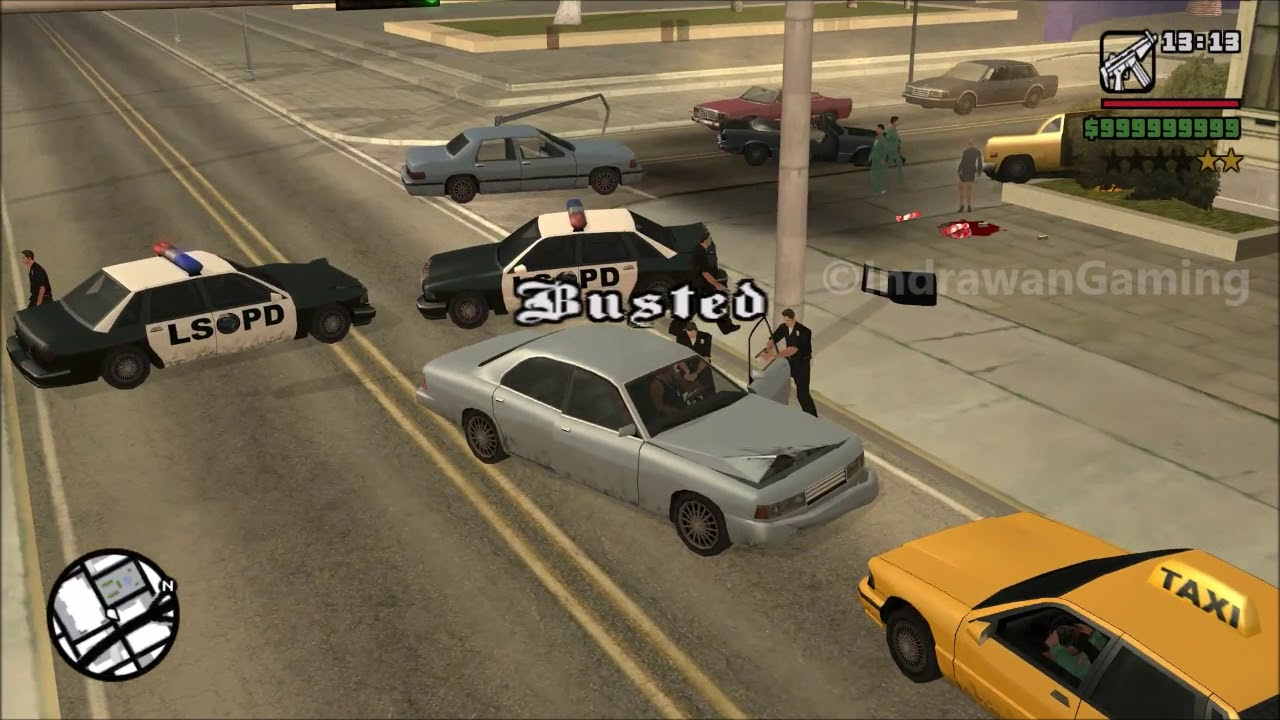car: (429, 314, 853, 550), (15, 245, 373, 381), (411, 215, 737, 311), (404, 126, 653, 203), (903, 49, 1061, 109), (688, 80, 851, 130)
person: (764, 302, 827, 417), (866, 123, 899, 211), (956, 143, 985, 228)
